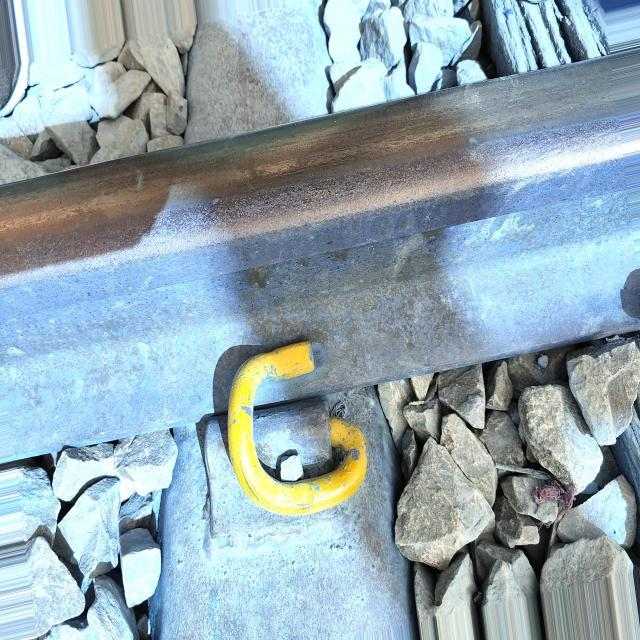Good Fasteners: (185, 340, 405, 556)
